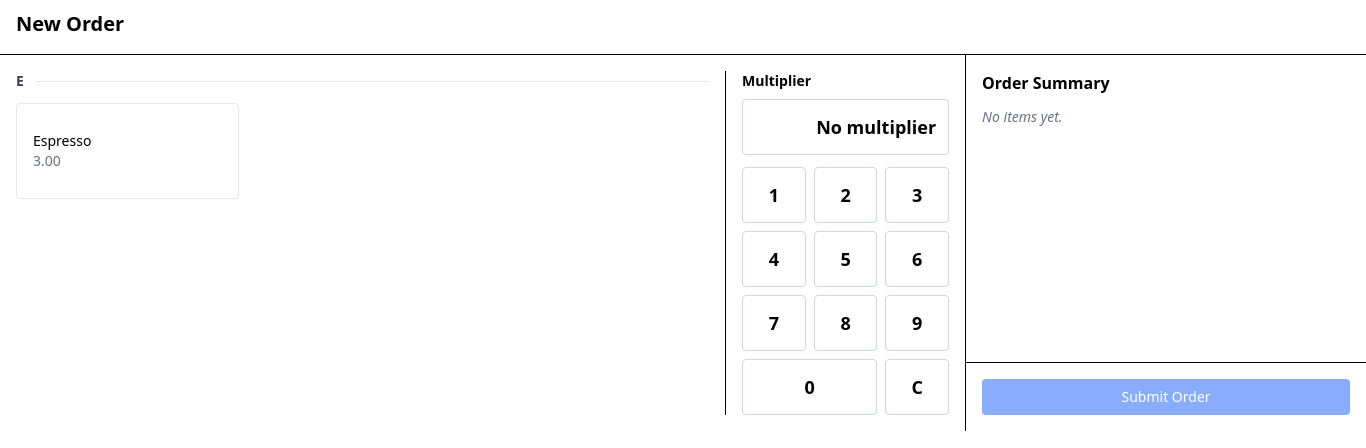
Order › warns on selector and summary when cart reaches the quantity threshold
The image size is (1366, 448).
Click the button "Espresso 3.00".
click(128, 151)  # box [16,103,239,199]
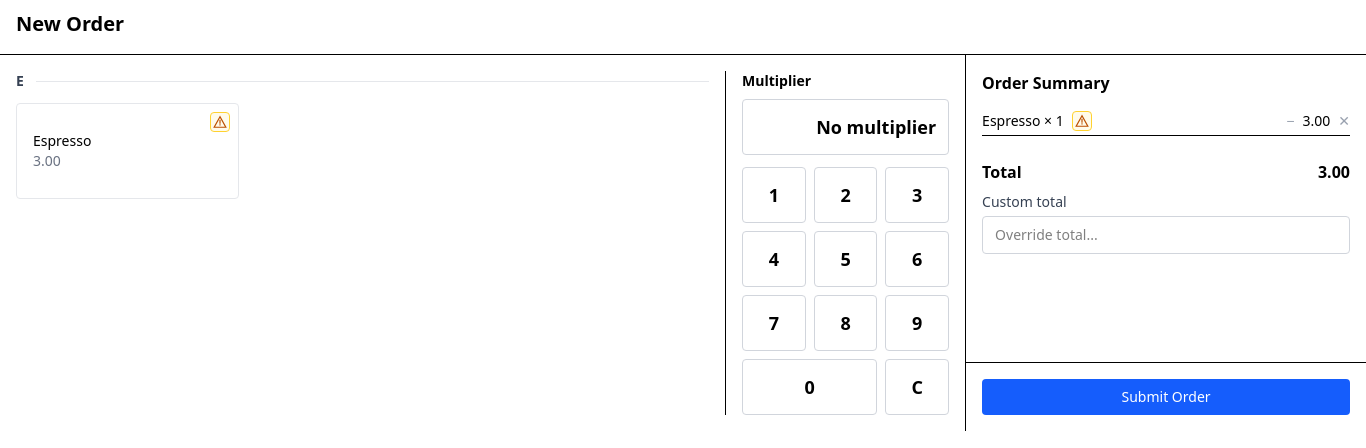
Expected: the number of pictures named "Low stock" is 2, [210,112,230,132]; [1072,111,1092,131]
